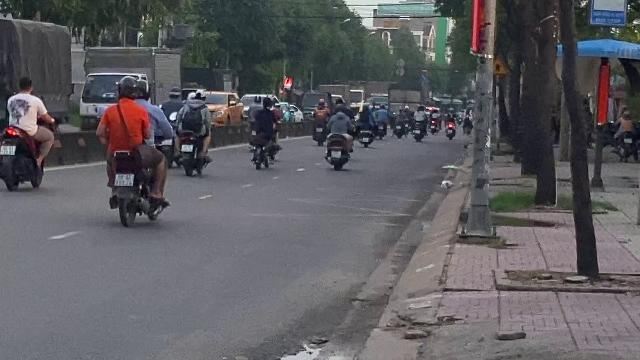helmet: (115, 75, 138, 100), (134, 75, 150, 99)
licenseplate: (115, 174, 134, 186), (1, 146, 16, 154)
motorcyclist: (96, 74, 172, 228), (0, 74, 54, 190)
nohelmet: (16, 75, 34, 93)
